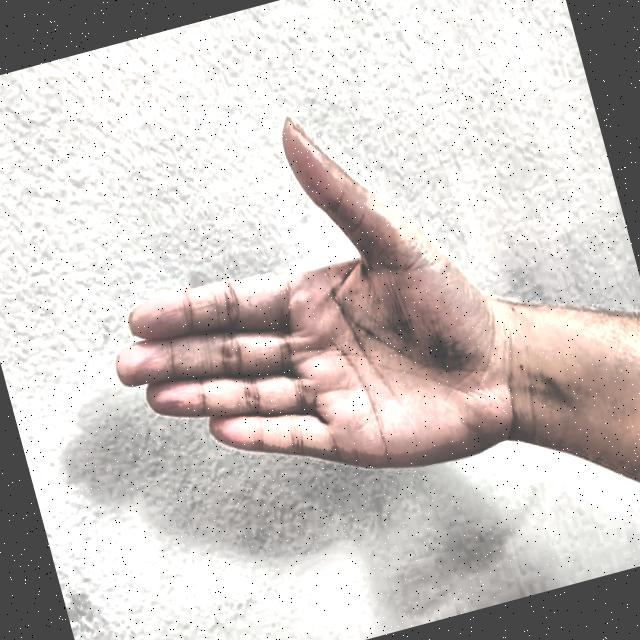Aa: (48, 62, 542, 596)
